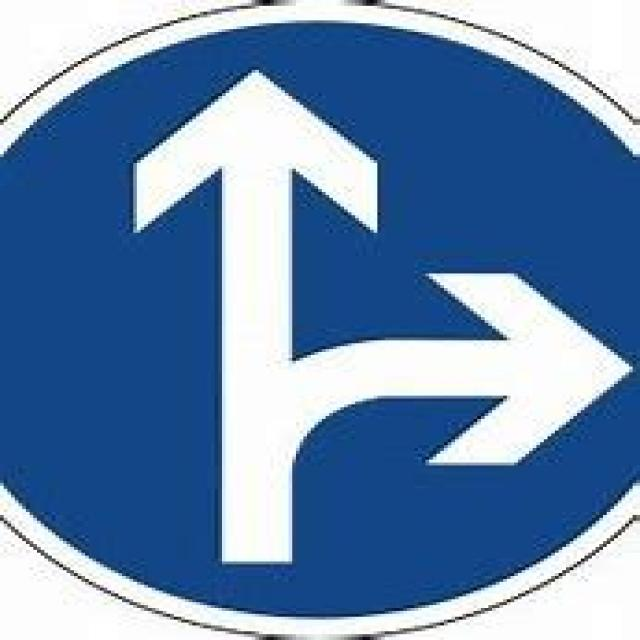COMPULSARY_AHEAD_OR_TURN_RIGHT: (0, 0, 636, 634)
